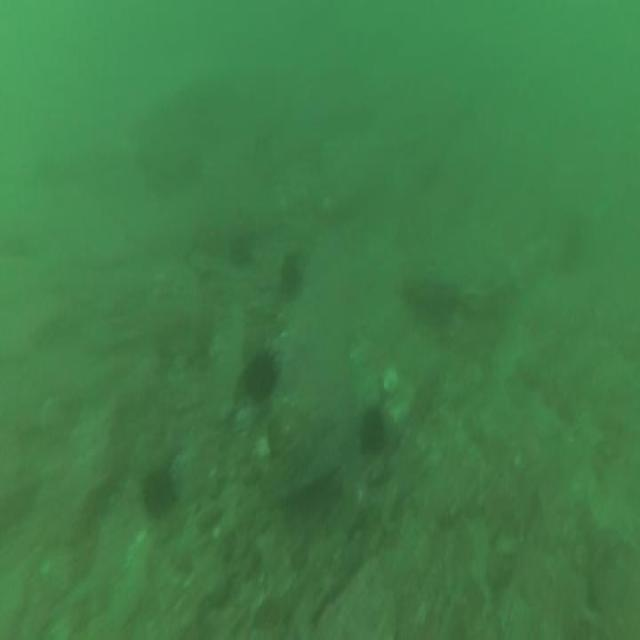echinus: (141, 474, 175, 518), (246, 357, 276, 403), (359, 411, 385, 453), (282, 269, 298, 294)
